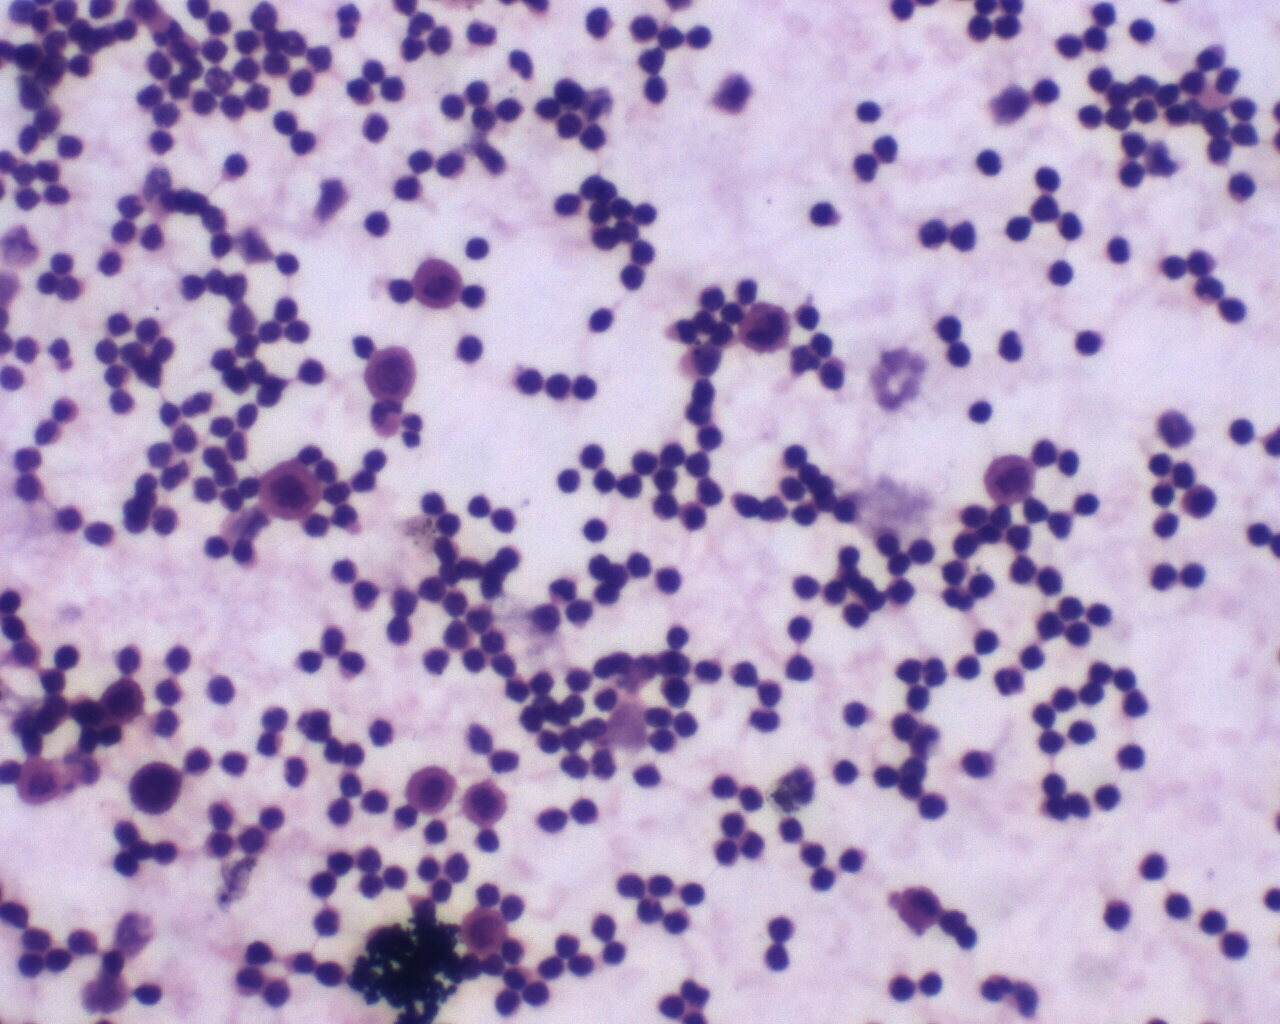ab: (254, 457, 323, 523), (126, 757, 188, 818), (734, 296, 795, 353), (979, 452, 1040, 507), (364, 345, 421, 400), (460, 905, 514, 958), (463, 778, 510, 831), (99, 676, 146, 727)
lymph: (1100, 894, 1143, 936), (450, 329, 490, 373), (160, 637, 197, 678), (789, 293, 827, 333), (917, 786, 953, 828), (904, 530, 940, 569), (1071, 324, 1110, 360), (778, 436, 817, 472), (509, 364, 546, 400), (487, 501, 521, 540), (569, 795, 610, 829), (1001, 208, 1034, 249), (362, 206, 396, 245), (654, 561, 691, 597), (1227, 414, 1262, 450), (1070, 485, 1107, 520), (1216, 290, 1251, 328), (932, 310, 971, 344), (693, 420, 731, 453), (635, 73, 674, 106), (551, 184, 583, 223), (1197, 901, 1230, 939), (972, 146, 1007, 181), (616, 261, 651, 297), (1114, 739, 1147, 775), (437, 88, 469, 124), (950, 650, 981, 688), (1031, 71, 1061, 111), (1102, 233, 1136, 267), (94, 248, 127, 282), (53, 131, 87, 165), (296, 353, 329, 388), (1033, 726, 1067, 761), (884, 973, 917, 1006), (585, 302, 618, 336), (853, 95, 887, 127), (829, 757, 863, 789), (965, 397, 1001, 428), (810, 195, 839, 233), (707, 769, 739, 804), (308, 868, 339, 904), (679, 876, 708, 912), (329, 553, 360, 586), (200, 531, 231, 564), (49, 641, 84, 671), (837, 844, 869, 876), (416, 488, 448, 519), (761, 942, 793, 974), (1163, 889, 1194, 922), (1047, 255, 1077, 288), (578, 440, 609, 471), (259, 802, 290, 834), (1179, 560, 1211, 590), (583, 514, 613, 546), (571, 372, 601, 404), (1093, 779, 1123, 812), (784, 612, 817, 642), (842, 693, 869, 728), (684, 23, 715, 54), (672, 709, 702, 741), (273, 249, 303, 279), (271, 107, 300, 136), (600, 941, 631, 969), (664, 622, 693, 649)
meso: (411, 255, 466, 311), (403, 764, 456, 818)
neutro: (916, 215, 951, 253), (992, 664, 1026, 700)
